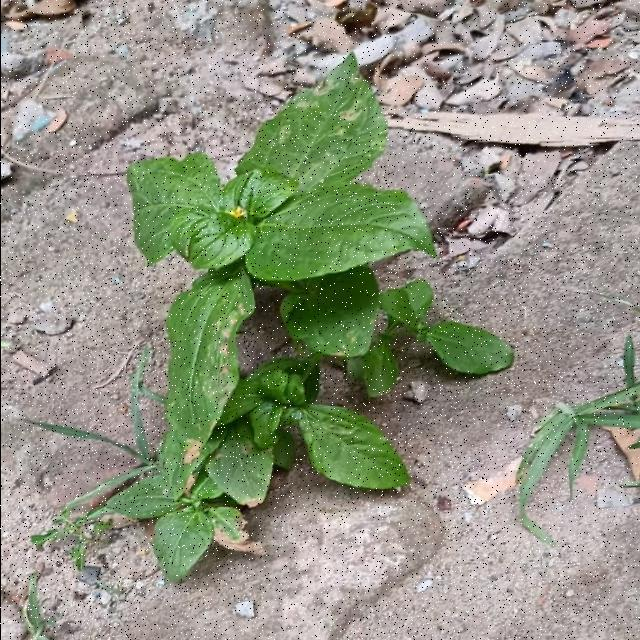weed: (103, 55, 512, 582), (520, 339, 640, 544)
